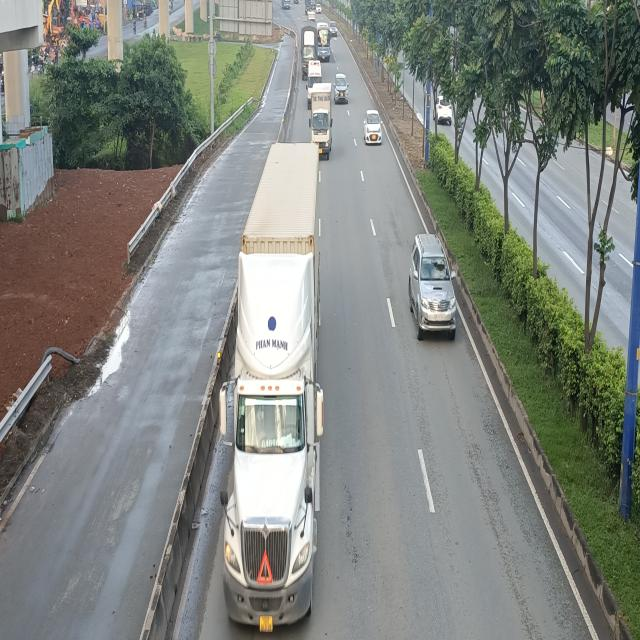car: (408, 233, 456, 342), (363, 110, 382, 146)
coach: (317, 23, 331, 62)
container: (212, 146, 323, 640)
truck: (309, 82, 334, 157)
